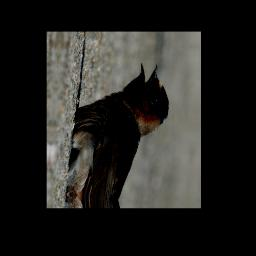Swallow: (64, 54, 173, 205)
